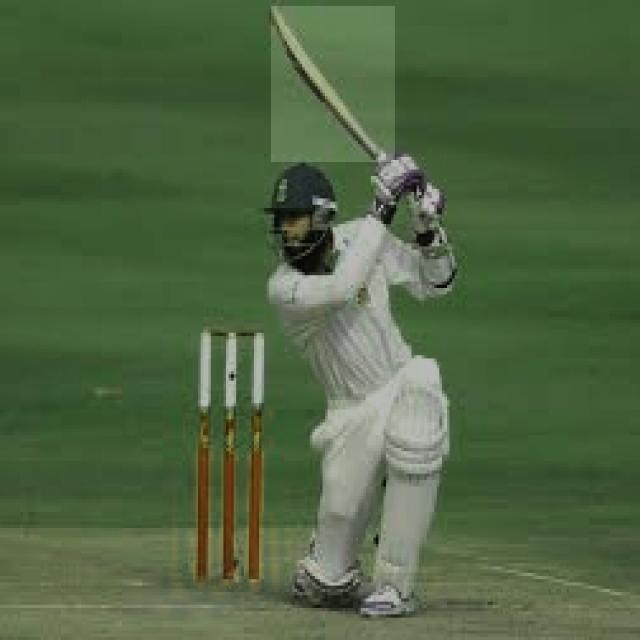bat: (267, 11, 390, 169)
